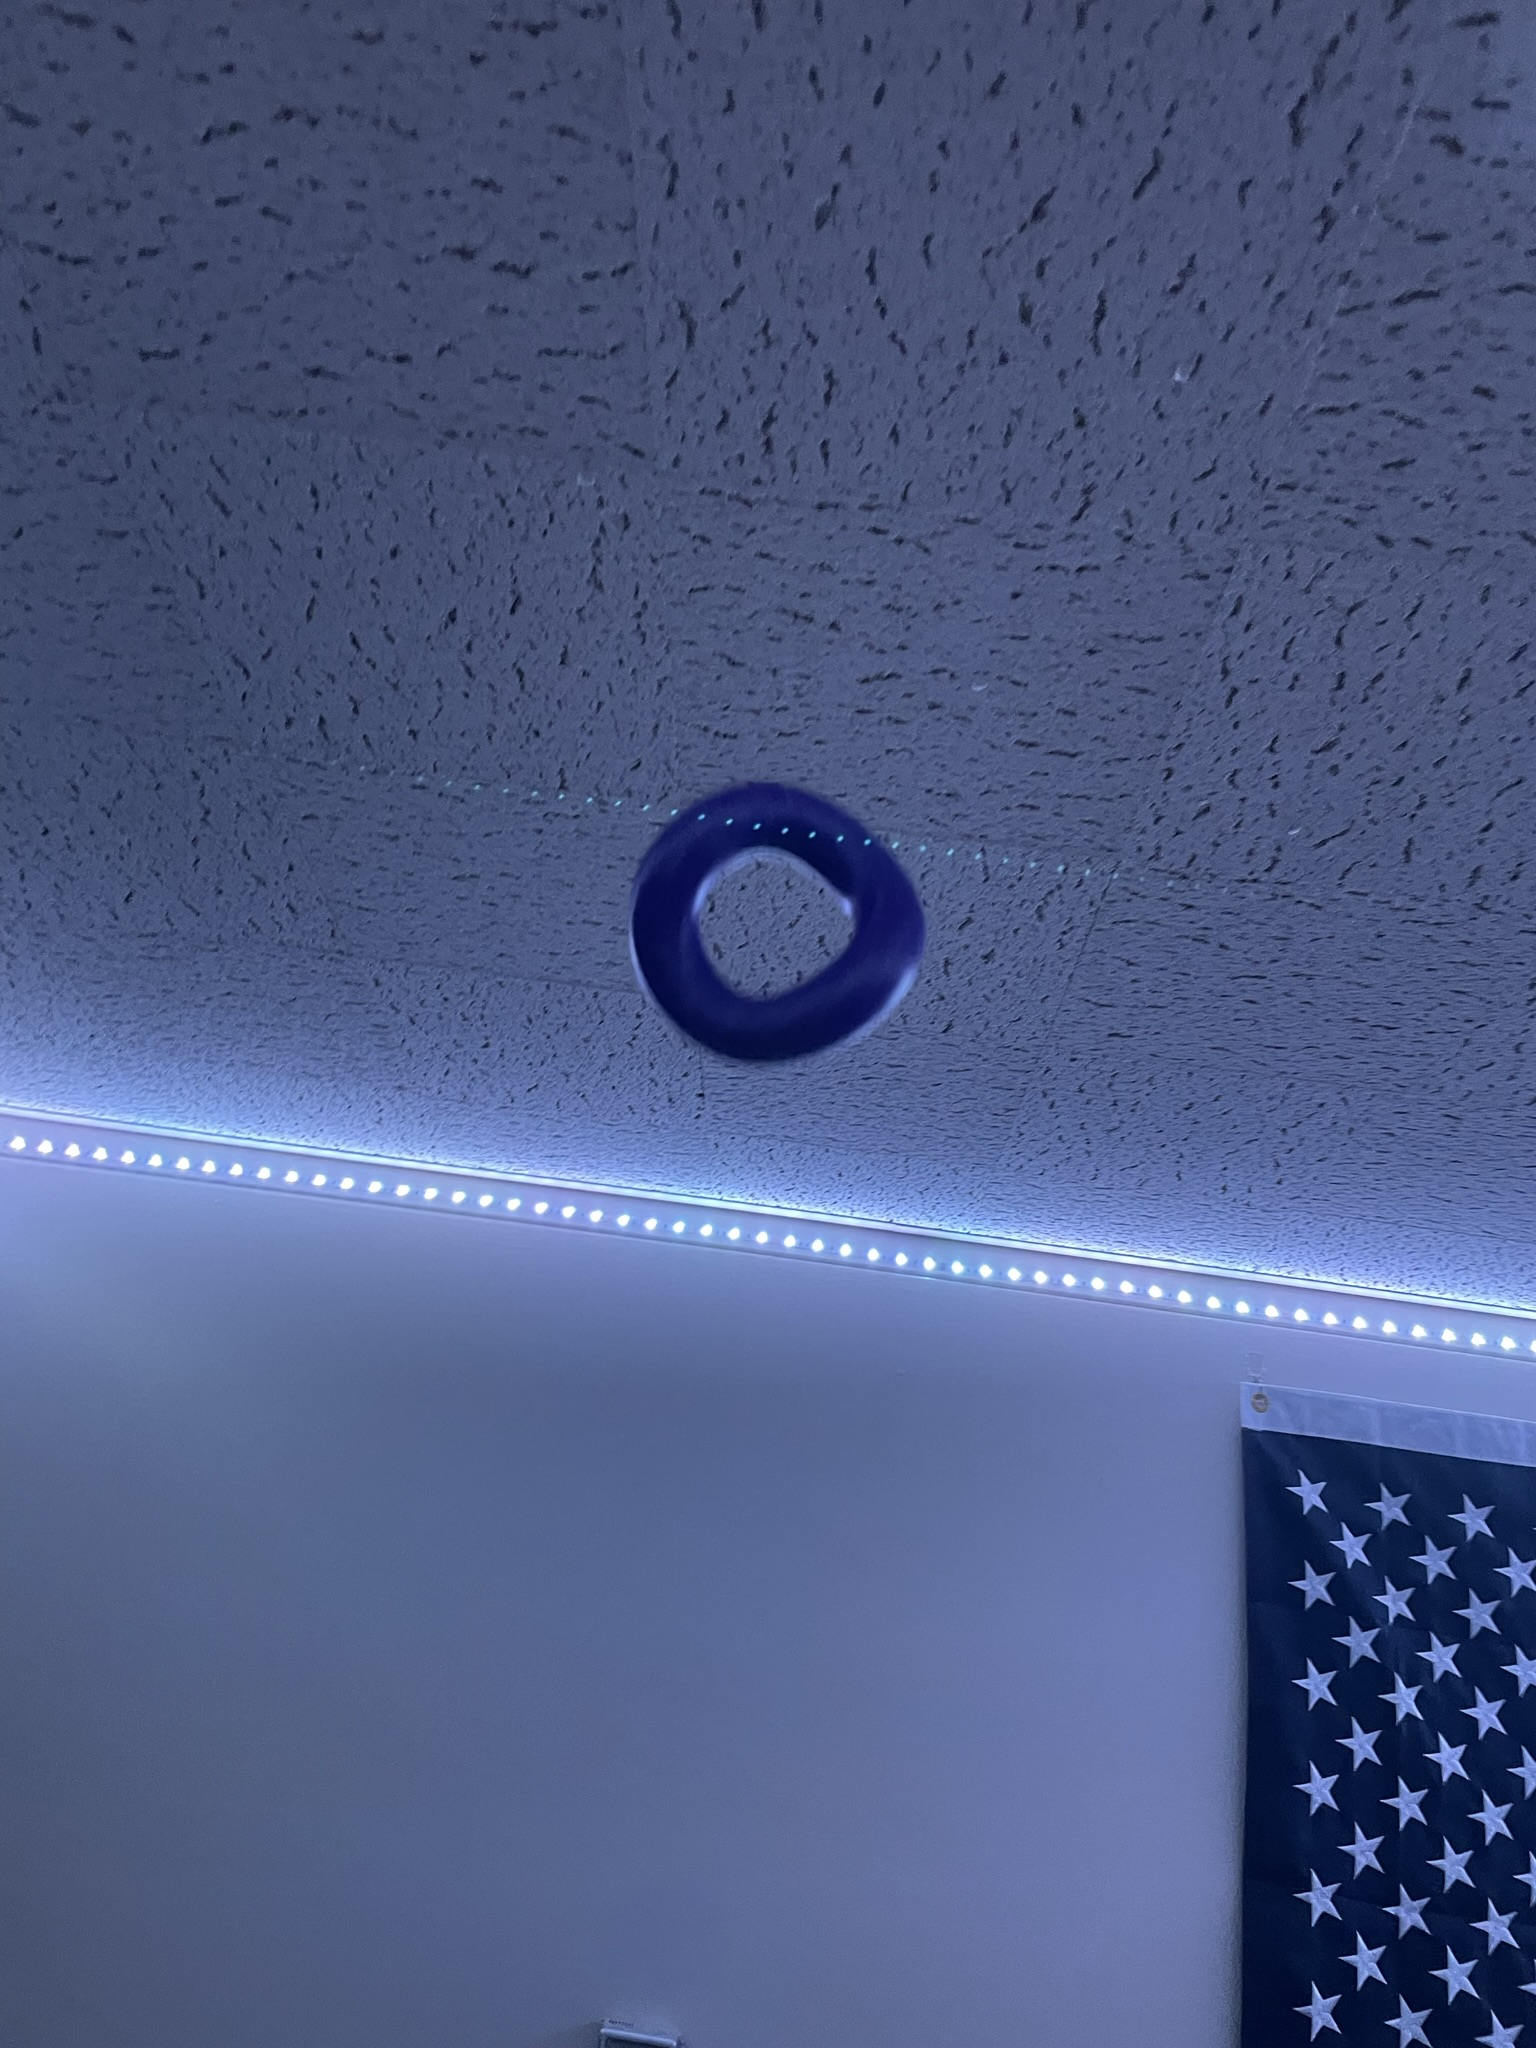ring: (624, 780, 926, 1068)
